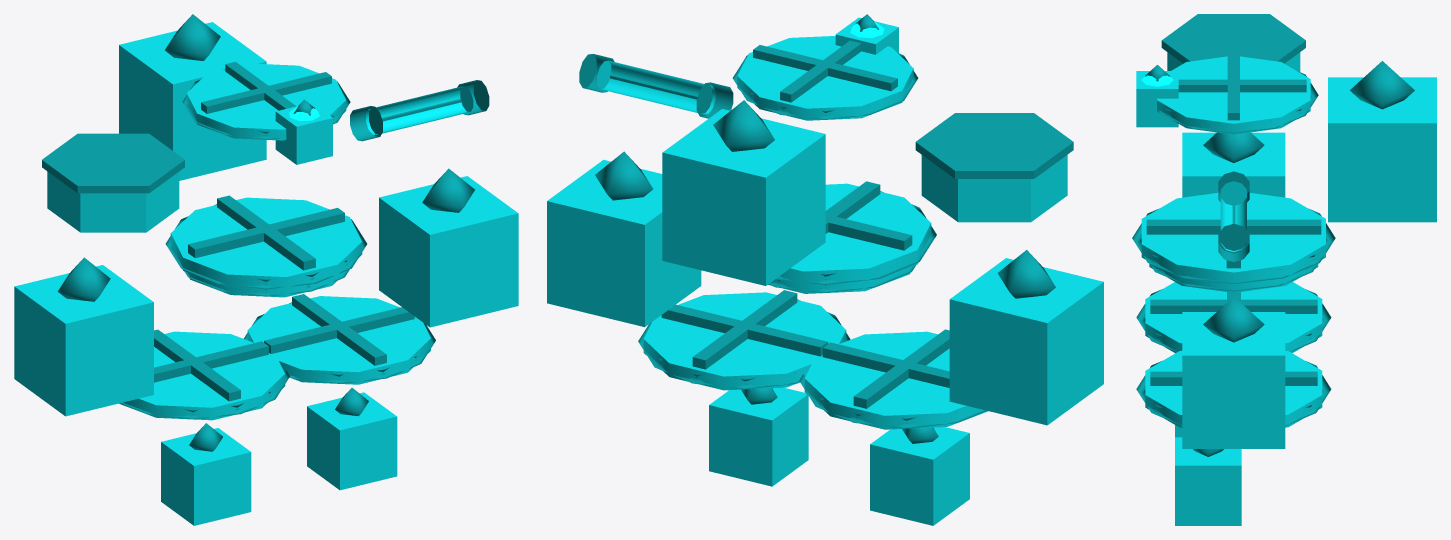
The model's file is golem_011.glb.
3 renders of one model, left to right at view 1: azimuth 30°, elevation 25°; view 2: azimuth 150°, elevation 25°; view 3: azimuth 270°, elevation 25°, orthographic. The views are drawn at different scales.
Parts seen in each view (by area): view 1: Body, Detail; view 2: Body, Detail; view 3: Body, Detail.
Part boxes in pixels (x1,y1,x2,y2): Body: [14, 22, 518, 525]; Detail: [42, 14, 489, 451]; Body: [547, 17, 1103, 525]; Detail: [579, 14, 1073, 443]; Body: [1136, 52, 1436, 525]; Detail: [1132, 14, 1414, 456].
Bounding box in the file's own units: 1.48 × 1.29 × 0.8551.
